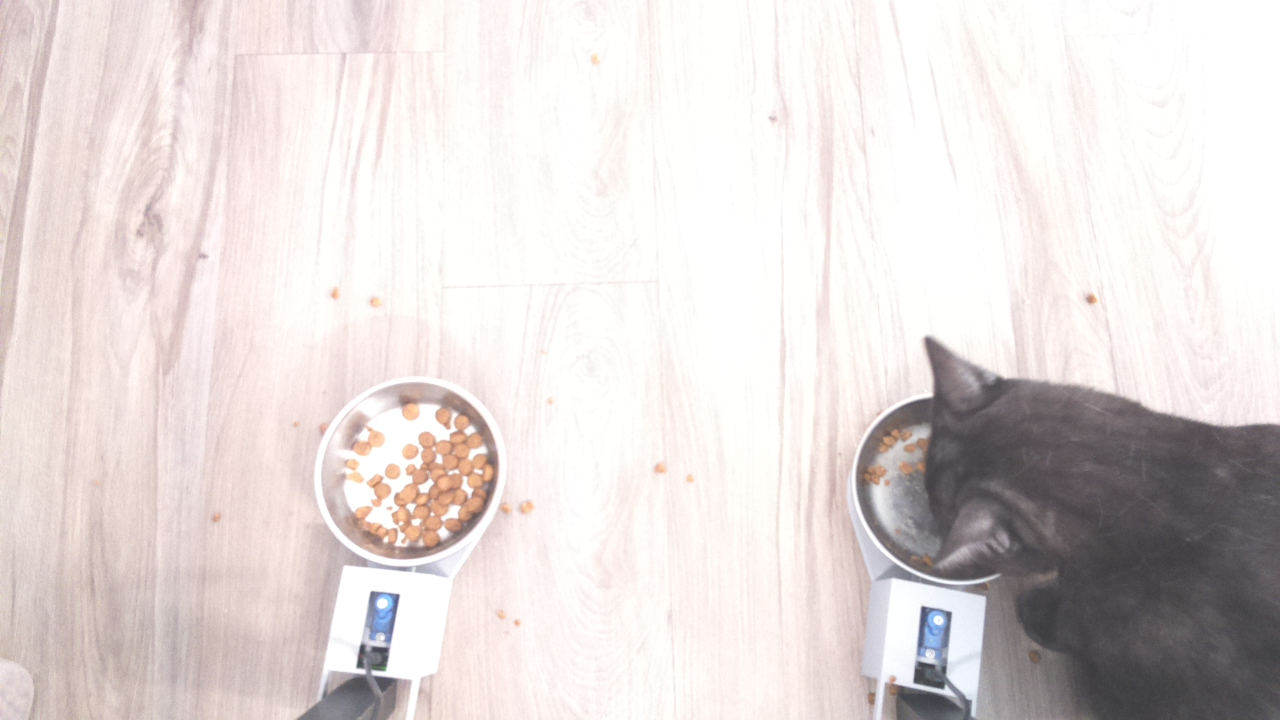open_bowl: (311, 377, 508, 577)
saki_eating: (849, 322, 1109, 599)
